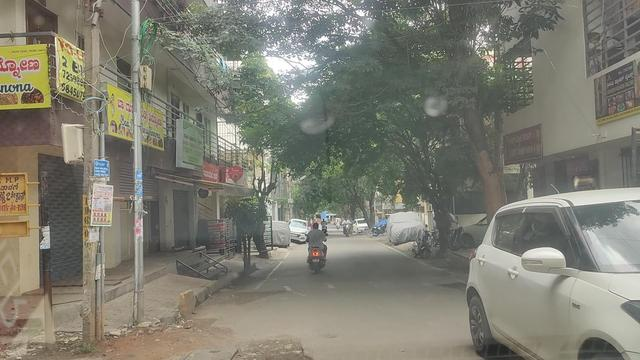LMV: (305, 215, 330, 274)
RoadDamages: (209, 324, 316, 360)
